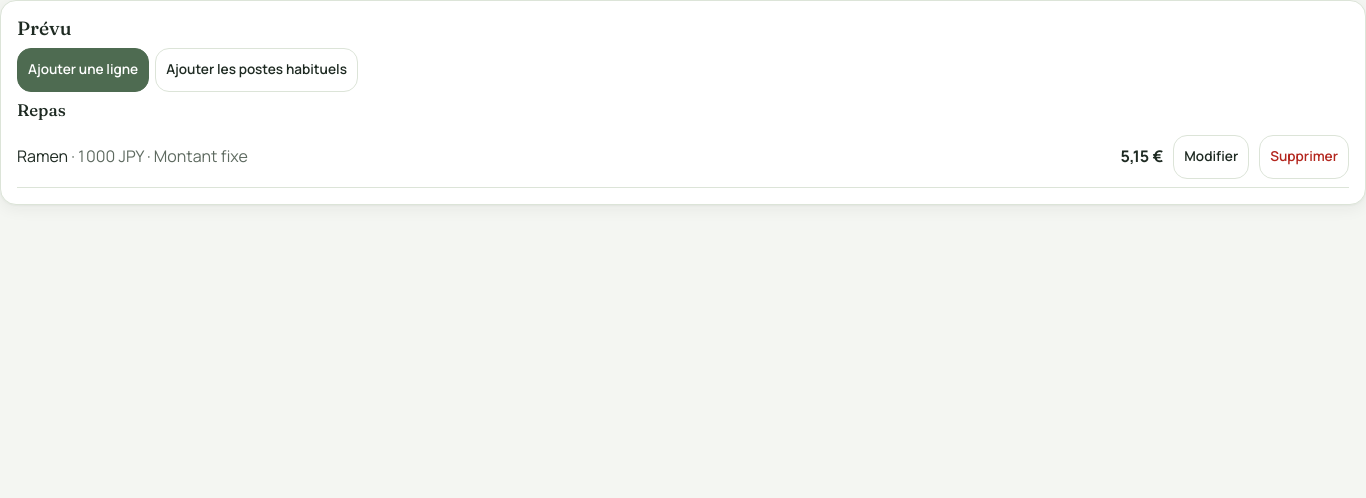
LinesPanel — taux de change sûrs › revient au taux d’origine quand on repasse à la devise de la ligne
This screenshot has width=1366, height=498.
Click the button "Modifier" at (1211, 157), box [1173,135,1249,179]
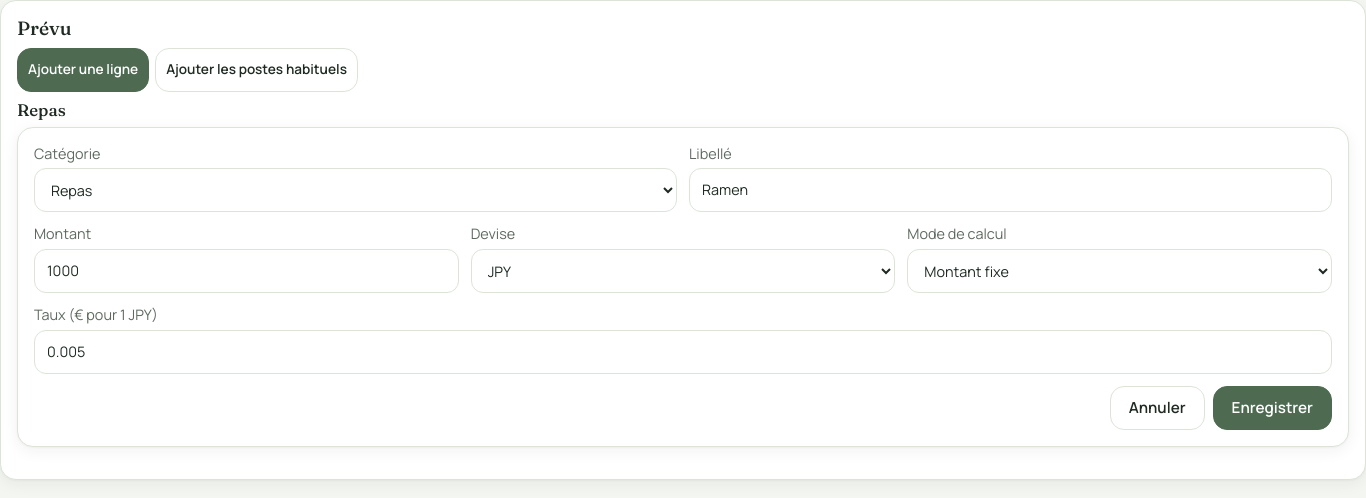
Select "USD" in the dropdown labelled "Devise" at (683, 271), box [471,249,895,293]
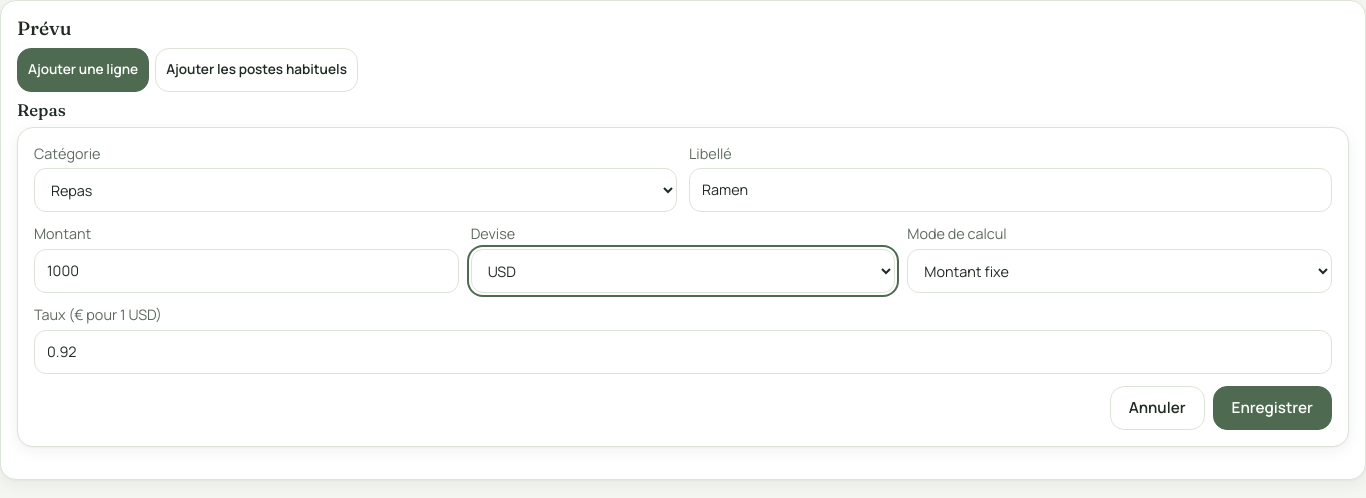
Result: the field labelled "Taux (€ pour 1 USD)" holds "0.92" at [34,330,1332,374]
Select "JPY" in the dropdown labelled "Devise" at (683, 271), box [471,249,895,293]
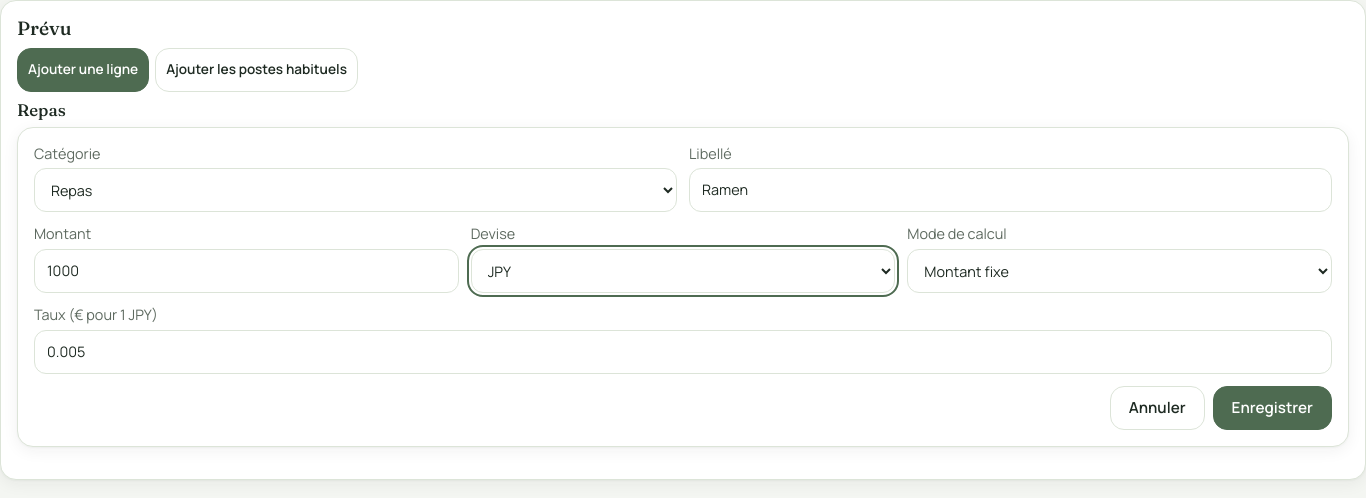
Result: the field labelled "Taux (€ pour 1 JPY)" holds "0.005" at [34,330,1332,374]
